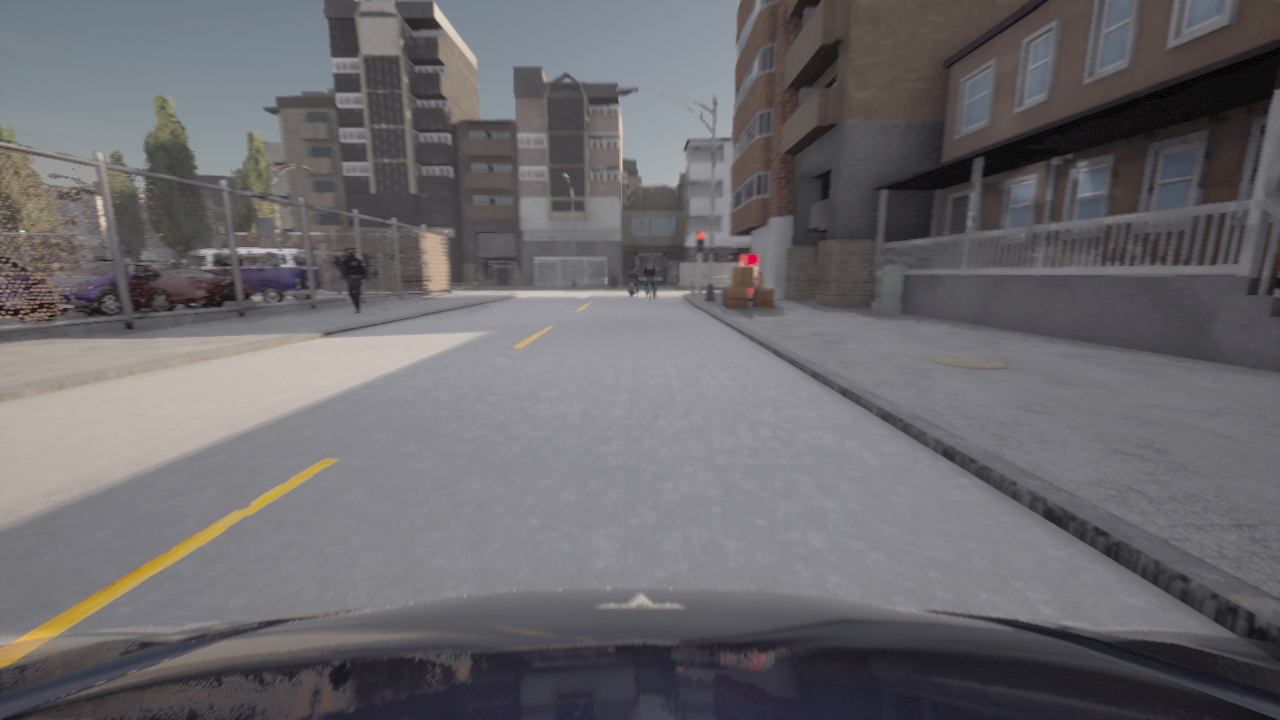cyclist: (0, 588, 1279, 719), (46, 259, 201, 316), (179, 248, 325, 303), (130, 264, 251, 312), (646, 283, 652, 302), (628, 281, 635, 296)
pedestrian: (343, 247, 367, 313), (754, 271, 764, 287)
